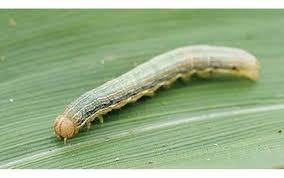fallarmy_worm: (42, 43, 274, 143)
